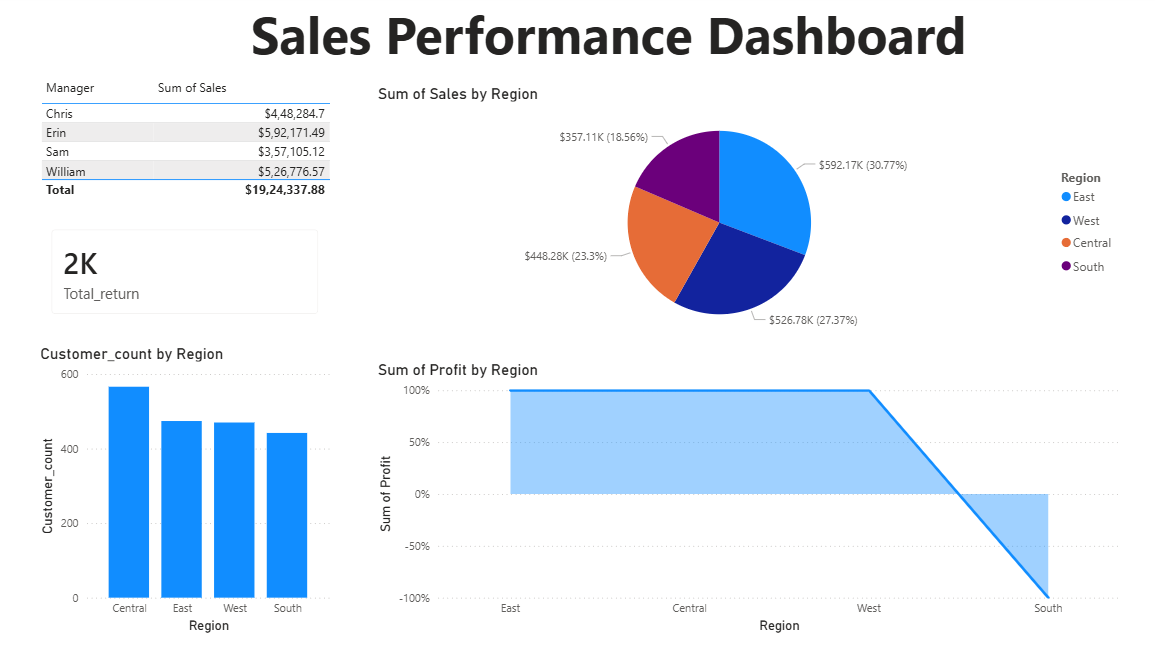

Layout of this report page (visuals, bound fields, positions):
{"tool":"powerbi","page":{"name":"Page 1","canvas":[1280,720],"ordinal":0},"visuals":[{"type":"tableEx","fields":{"Values":["Users.Manager","Sum(Orders.Sales)"]},"box":[43.9,86.4,328,159.2],"z":0},{"type":"cardVisual","fields":{"Data":["Orders.Total_return"]},"box":[43.9,241.5,328,127.6],"z":1000},{"type":"pieChart","fields":{"Category":["Orders.Region"],"Y":["Sum(Orders.Sales)"]},"box":[414.4,98.8,824.7,285.4],"z":2000},{"type":"clusteredColumnChart","fields":{"Y":["Orders.Customer_count"],"Category":["Orders.Region"]},"box":[43.9,384.2,328,322.5],"z":3000},{"type":"hundredPercentStackedAreaChart","fields":{"Category":["Orders.Region"],"Y":["Sum(Orders.Profit)"]},"box":[414.4,402.1,824.7,304.6],"z":4000},{"type":"textbox","box":[225,0,894.7,86.4],"z":6000}]}

Visuals, with their boxes in screenshot pixels (x1, y1, x2, y2), scaled from the page's 1280x720 canvas onto the 1155x647 screenshot:
tableEx - Users.Manager x Sum(Orders.Sales): Rect(40, 78, 336, 221)
cardVisual - Orders.Total_return: Rect(40, 217, 336, 332)
pieChart - Orders.Region x Sum(Orders.Sales): Rect(374, 89, 1118, 345)
clusteredColumnChart - Orders.Customer_count x Orders.Region: Rect(40, 345, 336, 635)
hundredPercentStackedAreaChart - Orders.Region x Sum(Orders.Profit): Rect(374, 361, 1118, 635)
textbox: Rect(203, 0, 1010, 78)
